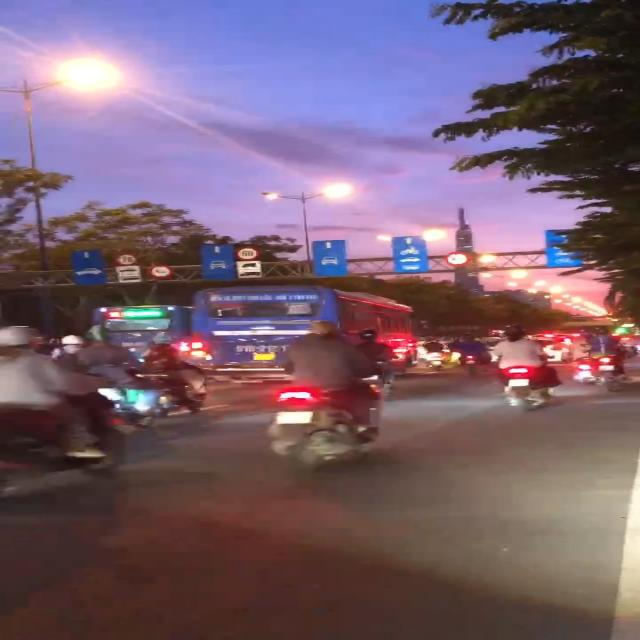Bien bao toc do toi da cho phep: (234, 245, 260, 262), (114, 252, 139, 268)
